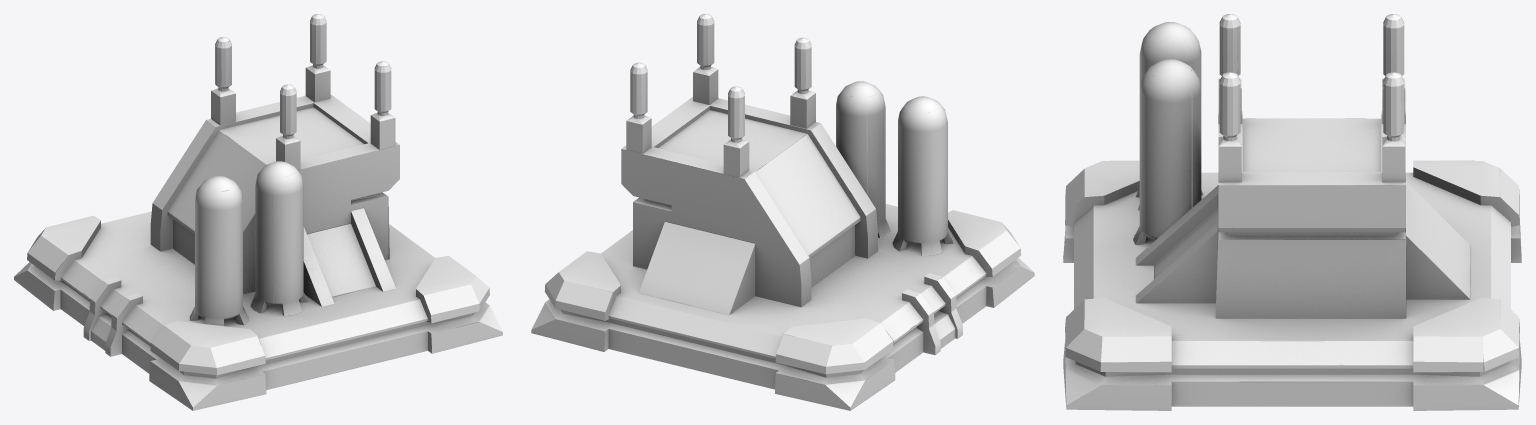
File: barrack_2.fbx
The picture shows the model from 3 angles, left to right: view 1: azimuth 30°, elevation 25°; view 2: azimuth 150°, elevation 25°; view 3: azimuth 270°, elevation 25°; orthographic projection. The views are drawn at different scales.
Visible parts, largest first — view 1: barrack_2; view 2: barrack_2; view 3: barrack_2.
Boxes of the visible parts, left/top/right/bottom form: barrack_2: left=14, top=14, right=502, bottom=410; barrack_2: left=531, top=14, right=1034, bottom=410; barrack_2: left=1063, top=14, right=1521, bottom=410.
Size of the model in its own units: 425 by 306 by 419.
